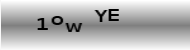1: (36, 17, 49, 31)
E: (107, 8, 119, 21)
Y: (93, 8, 107, 22)
o: (50, 15, 65, 26)
w: (64, 22, 82, 33)
